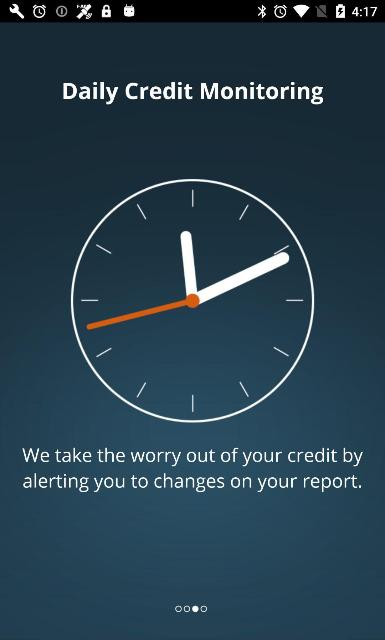Image: (70, 178, 314, 424)
PageIndicator: (174, 606, 208, 612)
Text: (22, 446, 363, 492), (63, 82, 323, 105)
UpperTaskBar: (0, 0, 384, 22)
